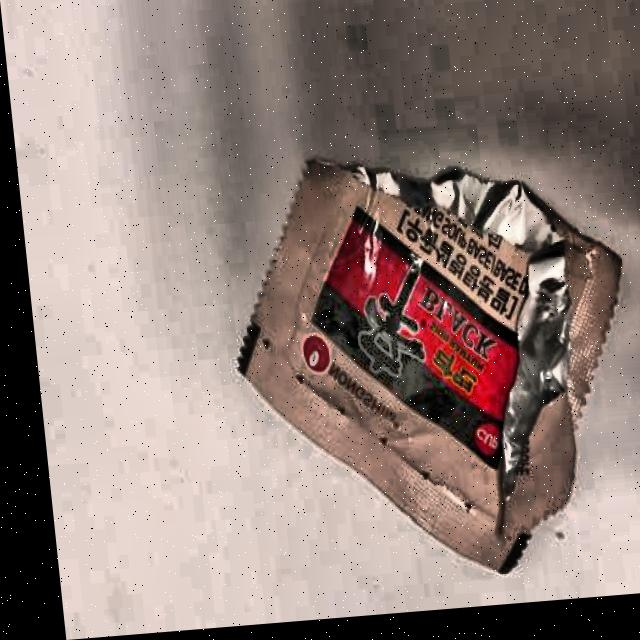trash: (216, 133, 640, 602)
